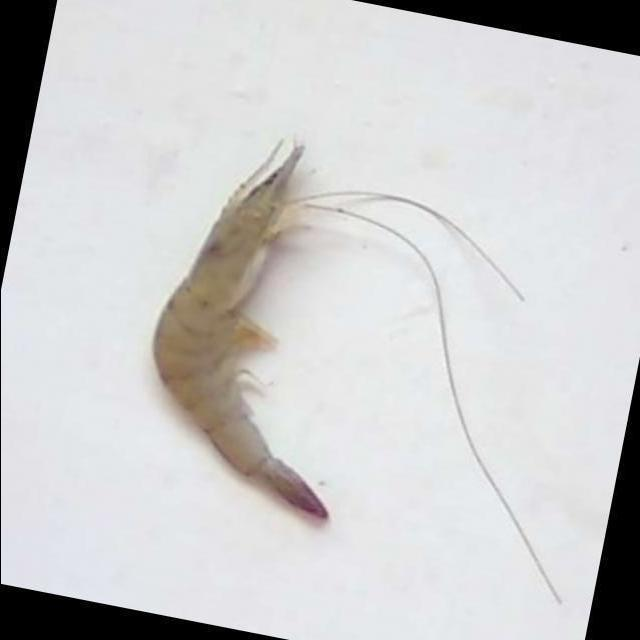shrimp: (152, 141, 327, 520)
